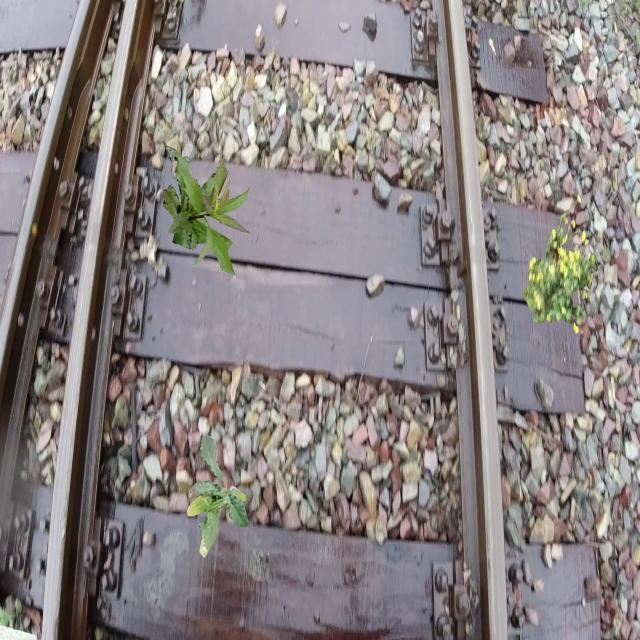Plant: (163, 146, 252, 276), (523, 195, 598, 335), (186, 434, 248, 558)
